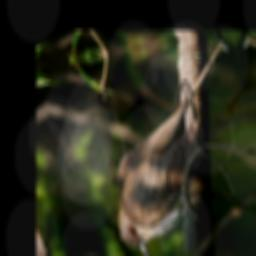Cuckoo: (74, 41, 256, 256)
